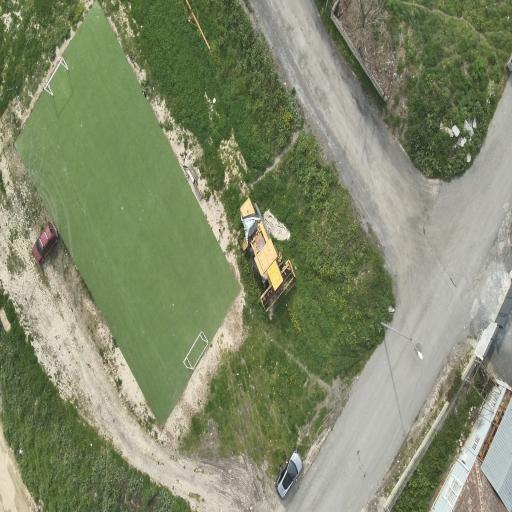car: (276, 451, 302, 499), (33, 222, 58, 262)
harvester: (241, 199, 295, 317)
